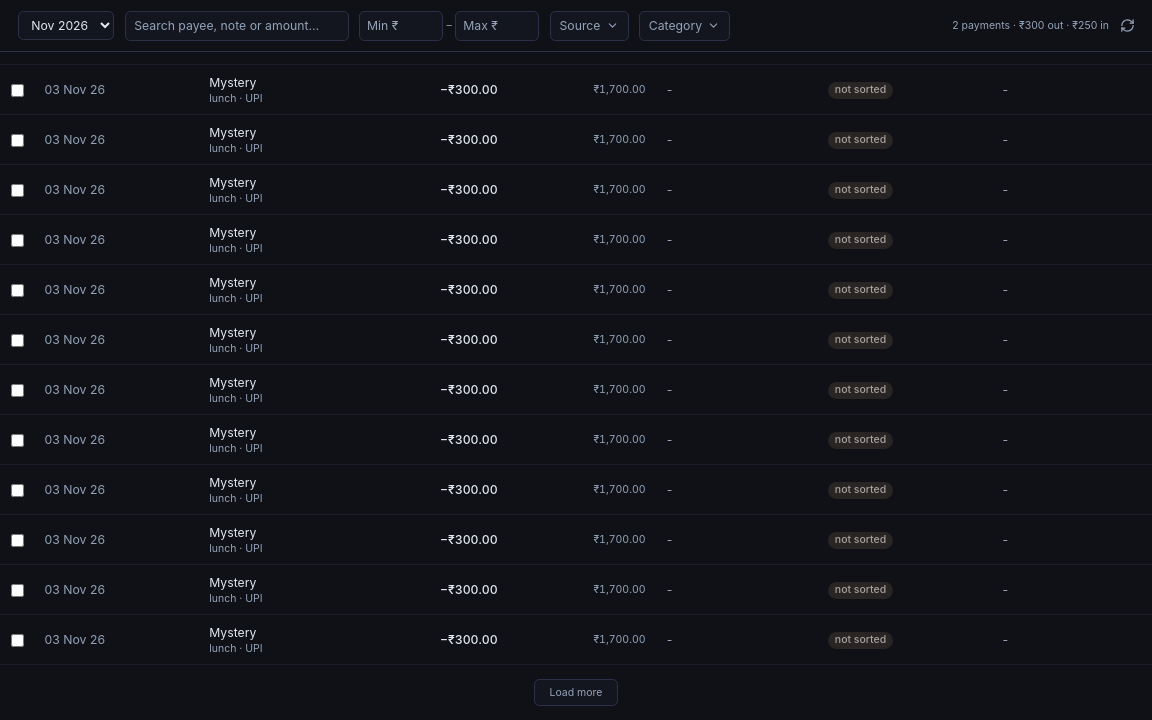
Test case: Transactions when the API fails › keeps the rows and offers Retry when the next page fails
(page scrolled)
Click the button "Load more": {"x": 576, "y": 693} [534, 679, 618, 706]
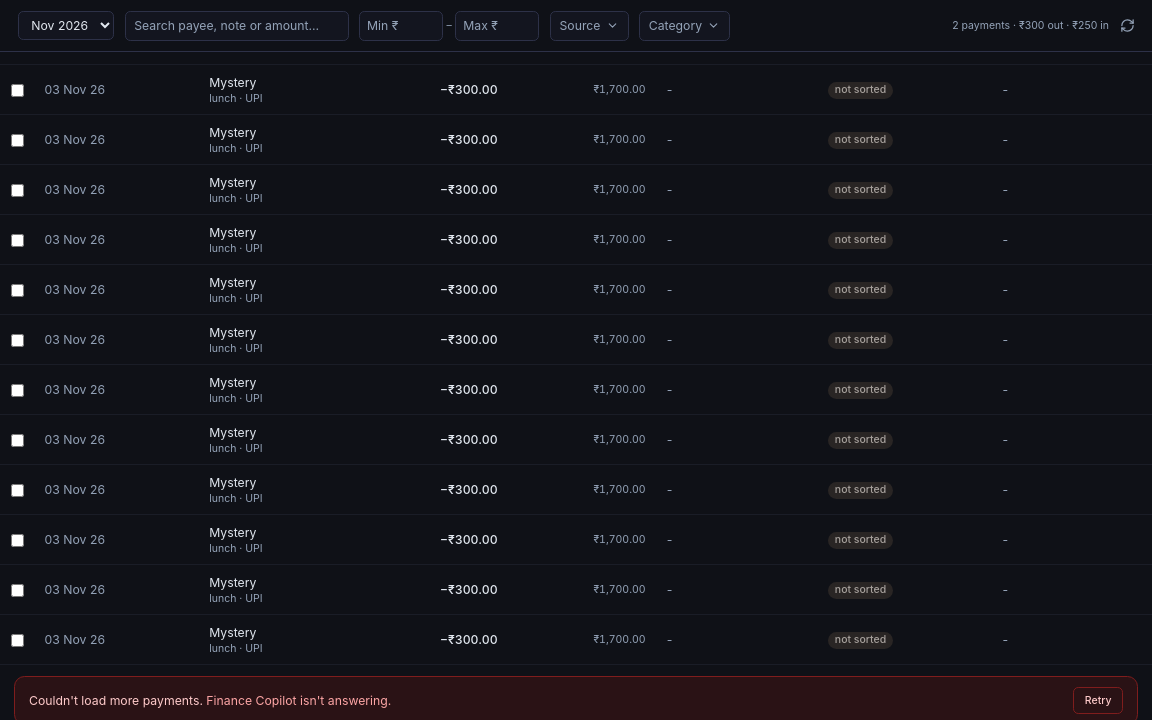
Click the button "Retry": {"x": 1098, "y": 701} [1073, 687, 1123, 714]
(page scrolled)
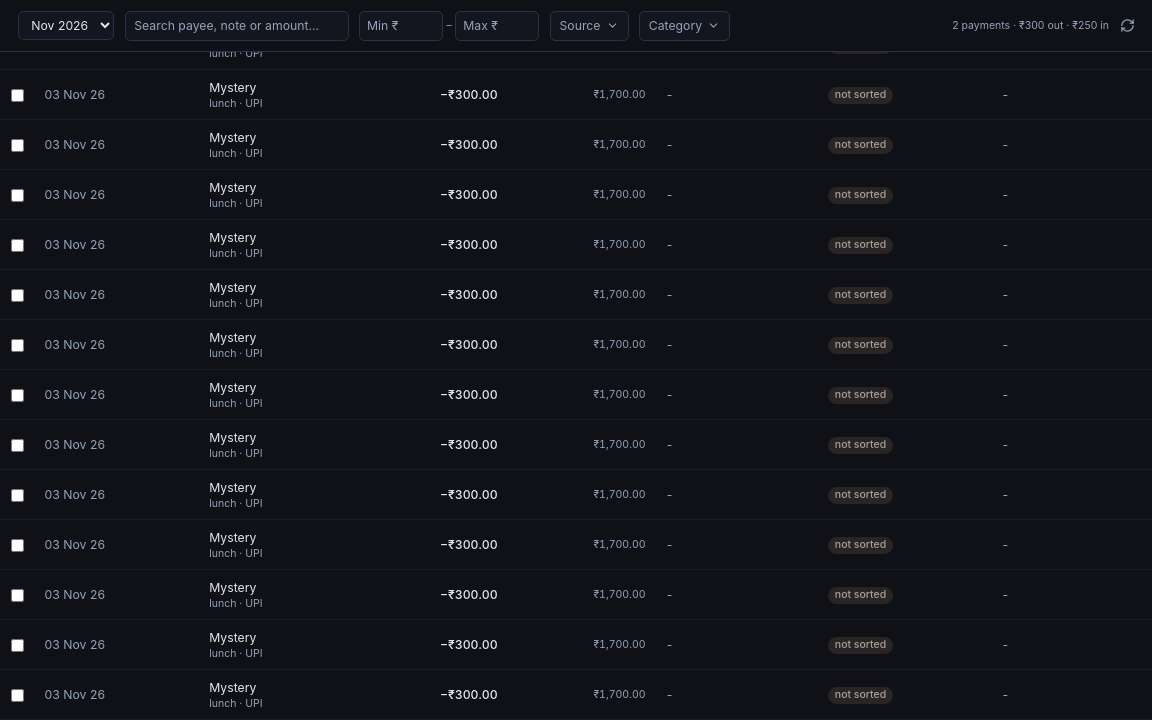
Result: the text "load more" is gone
